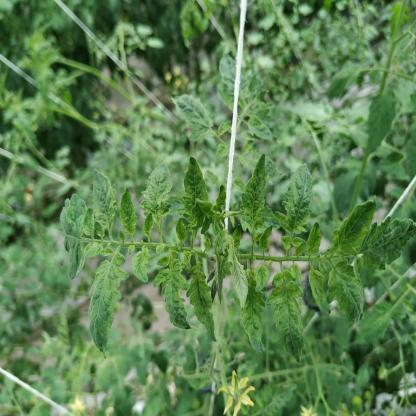T_L_R: (89, 252, 128, 354), (359, 219, 416, 271), (269, 284, 305, 364), (276, 166, 314, 235), (154, 260, 191, 330), (140, 164, 172, 244), (334, 201, 377, 256), (61, 195, 88, 281), (328, 261, 364, 323), (242, 155, 267, 238), (187, 273, 217, 342), (242, 276, 266, 354), (94, 170, 117, 240), (185, 158, 209, 222), (229, 246, 249, 310), (310, 266, 332, 315), (120, 190, 138, 243), (133, 248, 151, 284), (307, 223, 323, 256), (255, 265, 269, 294), (260, 226, 273, 253), (85, 208, 95, 239), (177, 219, 188, 247)
